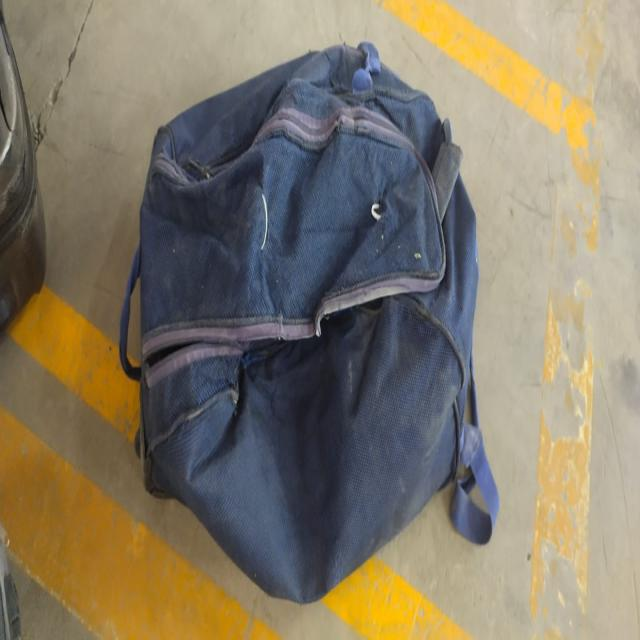Damage-bag: (330, 42, 380, 108), (142, 333, 215, 378), (180, 144, 219, 179), (365, 186, 386, 242), (198, 115, 220, 128)
